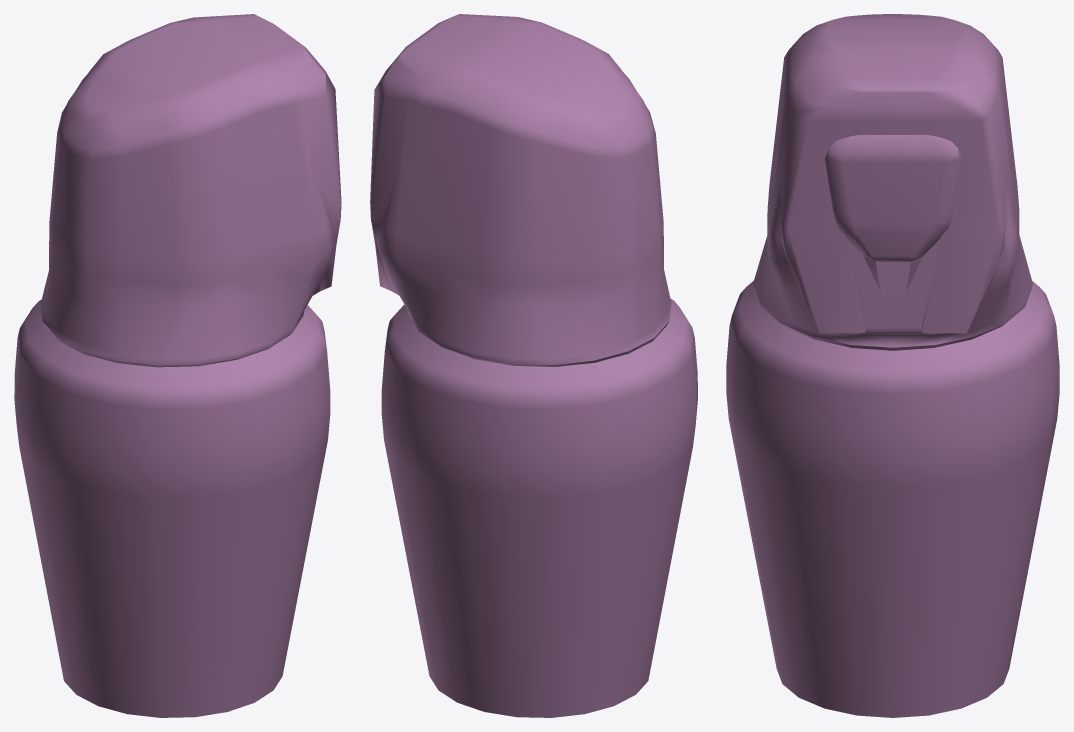
File: Canopo.fbx
3 views of the same model, side by side, from view 1: azimuth 30°, elevation 25°; view 2: azimuth 150°, elevation 25°; view 3: azimuth 270°, elevation 25° (orthographic). The views are drawn at different scales.
Visible parts, largest first — view 1: pCylinder6; view 2: pCylinder6; view 3: pCylinder6.
Part boxes in pixels (x1,y1,x2,y2): pCylinder6: [14, 14, 341, 717]; pCylinder6: [370, 14, 697, 717]; pCylinder6: [726, 14, 1059, 717].
Bounding box in the file's own units: 1.79 × 3.84 × 1.79.
